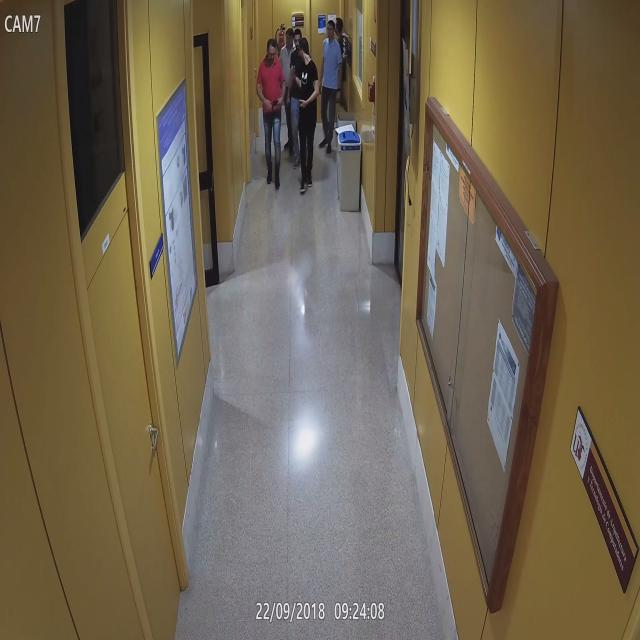Gun: (266, 96, 280, 112), (283, 96, 292, 117)
